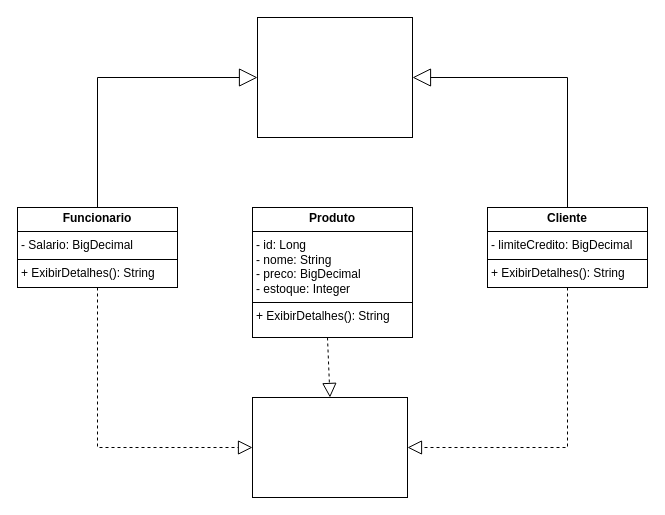
Image size: 665x515. Some labels were removed from this diagram. The shapes that lost their labels are listed below. From the top down, each one's centre as x and y in pixels, then its label:
(x=334, y=77): Usuario # id: Long # nome: String # cpf: String # email: String
(x=330, y=447): <<interface>> ExibirInfos + ExibirDetalhes(): String
